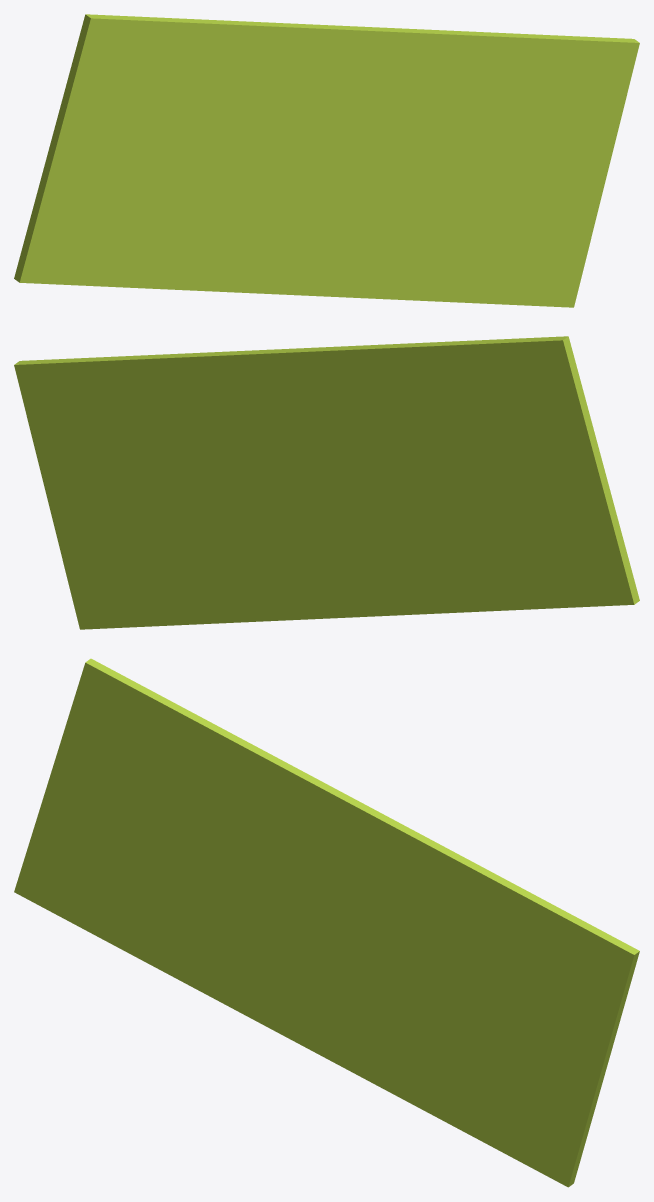
The picture shows the model from 3 angles, top to bottom: view 1: azimuth 30°, elevation 25°; view 2: azimuth 150°, elevation 25°; view 3: azimuth 330°, elevation 25°; orthographic projection.
Visible parts, largest first — view 1: osm-way27917482-F0; view 2: osm-way27917482-F0; view 3: osm-way27917482-F0.
Part boxes in pixels (<box>): osm-way27917482-F0: <box>14,14,639,307</box>; osm-way27917482-F0: <box>14,336,639,629</box>; osm-way27917482-F0: <box>14,658,639,1187</box>.
Size of the model in its own units: 9.56 by 5.99 by 0.15.
